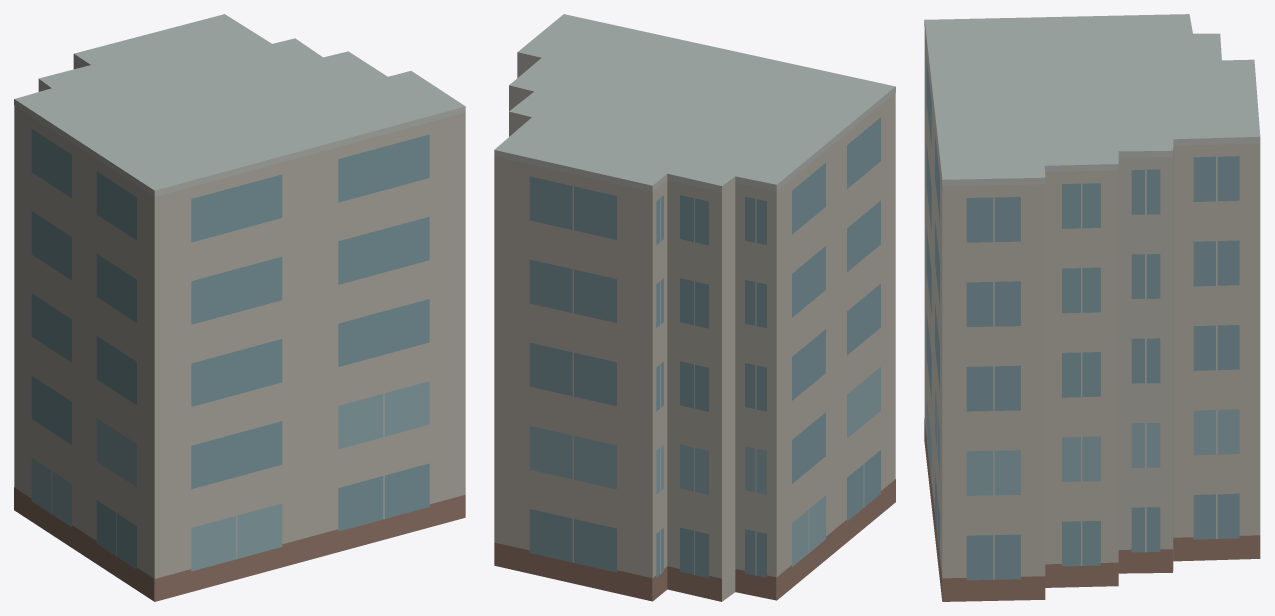
Rendered from survey-upis-32879154.glb.
The picture shows the model from 3 angles, left to right: view 1: azimuth 30°, elevation 25°; view 2: azimuth 150°, elevation 25°; view 3: azimuth 270°, elevation 25°; orthographic projection. The views are drawn at different scales.
Visible parts, largest first — view 1: survey-upis-32879154.tmp; view 2: survey-upis-32879154.tmp; view 3: survey-upis-32879154.tmp.
Boxes of the visible parts, <box> form: survey-upis-32879154.tmp: <box>14,14,465,601</box>; survey-upis-32879154.tmp: <box>494,14,895,601</box>; survey-upis-32879154.tmp: <box>924,14,1260,601</box>.
Bounding box in the file's own units: 13.58 × 16.1 × 11.62.
